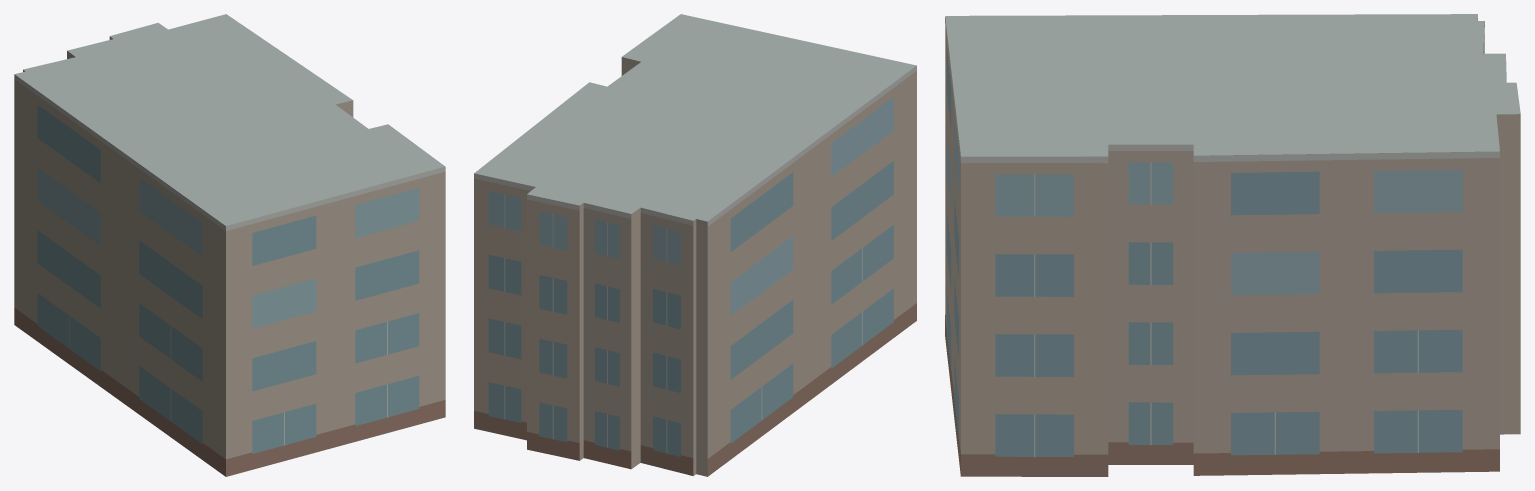
The model's file is survey-upis-32489883.glb.
3 views of the same model, side by side, from view 1: azimuth 30°, elevation 25°; view 2: azimuth 150°, elevation 25°; view 3: azimuth 270°, elevation 25° (orthographic). The views are drawn at different scales.
Parts seen in each view (by area): view 1: survey-upis-32489883.tmp; view 2: survey-upis-32489883.tmp; view 3: survey-upis-32489883.tmp.
Boxes of the visible parts, box(x1,y1,x2,y2) form: survey-upis-32489883.tmp: box(14, 14, 445, 476); survey-upis-32489883.tmp: box(474, 14, 916, 476); survey-upis-32489883.tmp: box(945, 14, 1520, 476).
Size of the model in its own units: 11.68 by 12.2 by 19.89.
